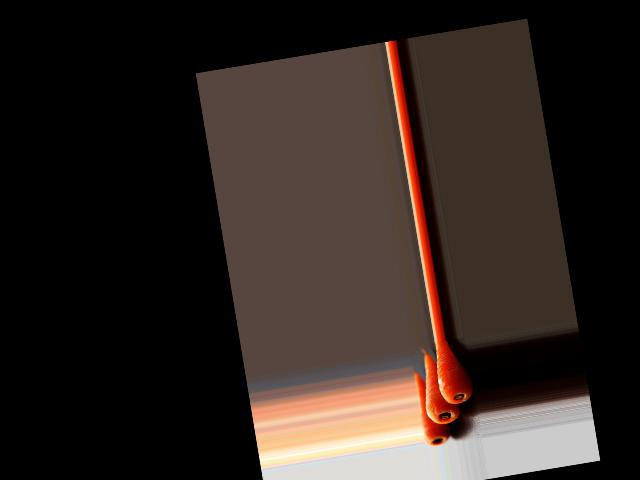carrot: (413, 368, 452, 438)
